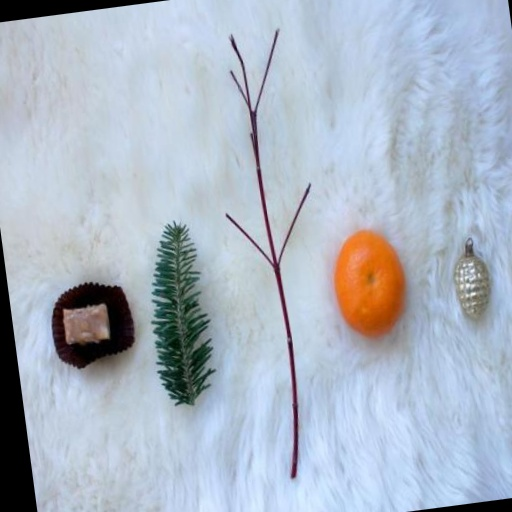fruit: (334, 230, 404, 338)
